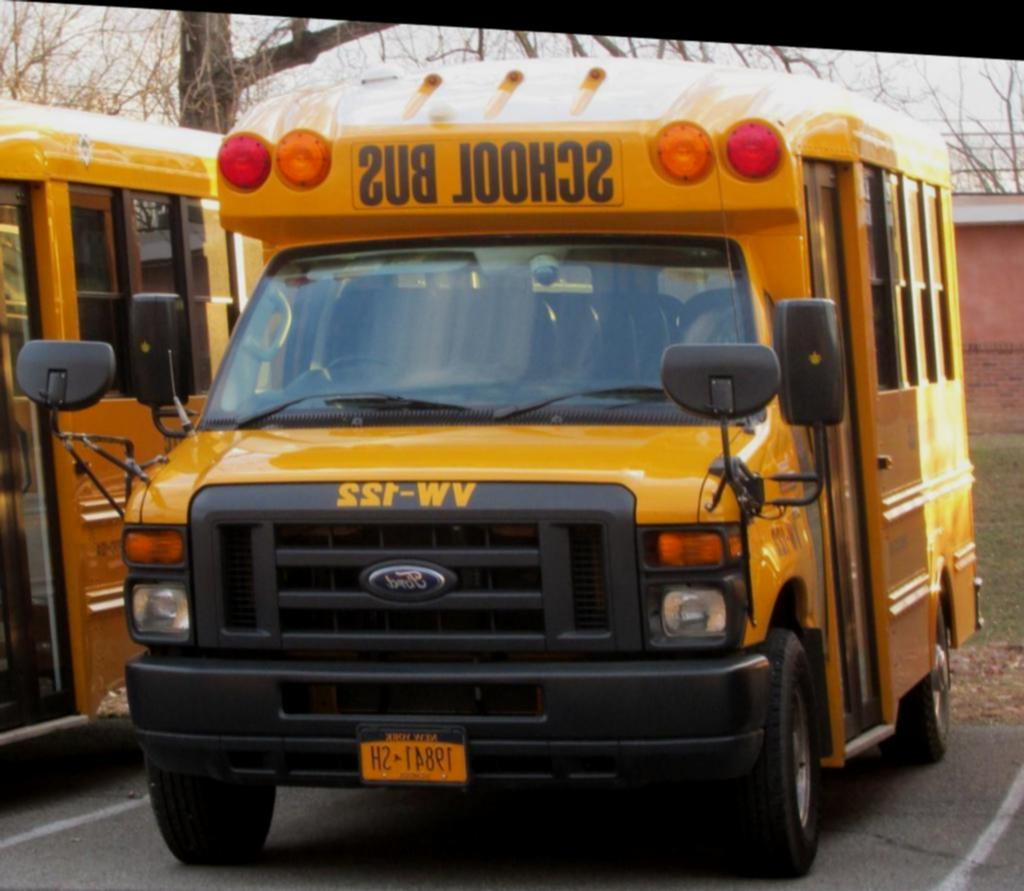License_Plate: (357, 732, 469, 788)
